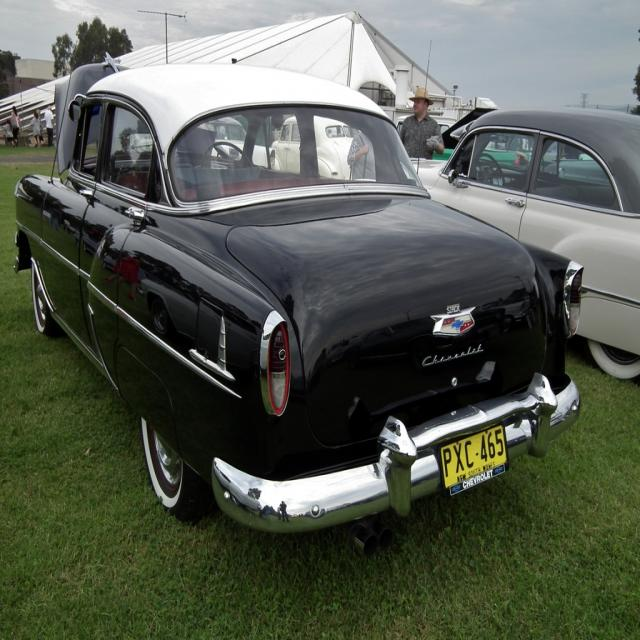other: (11, 49, 581, 518), (408, 104, 640, 370), (266, 117, 360, 180), (208, 120, 274, 164), (122, 128, 150, 158)
